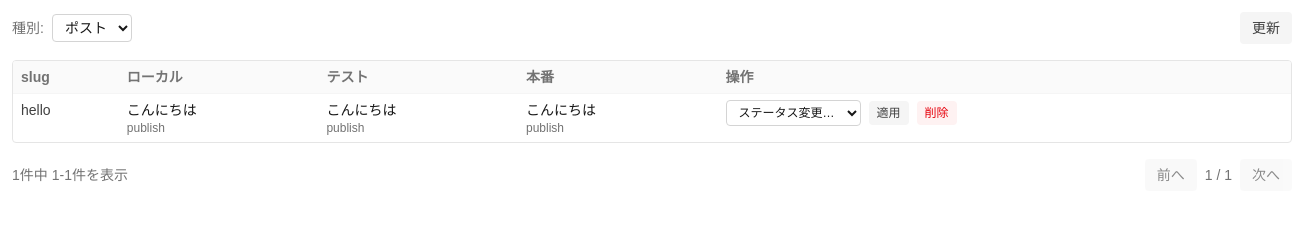
PostComparisonTable › 確認を承認すると削除し、成功メッセージを表示する
Click the button "削除" at [937, 113], box [917,101,957,125]
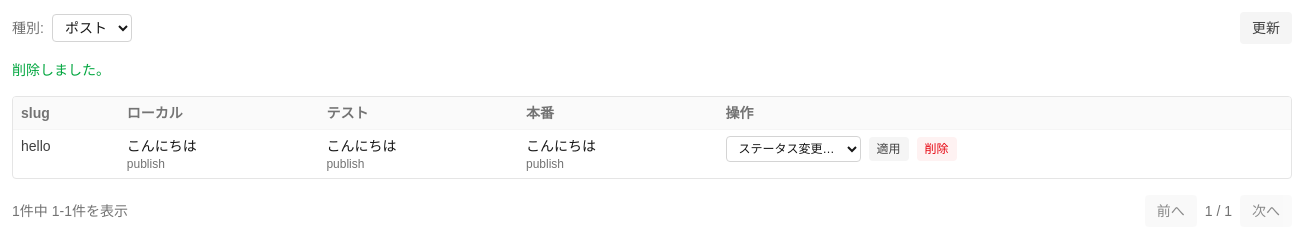
Result: the text "削除しました。" is shown at [12,62,110,78]
